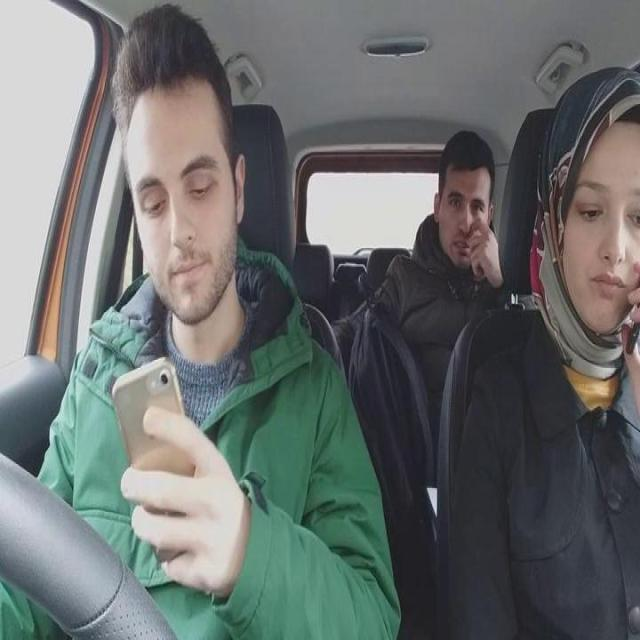phone: (108, 352, 193, 520)
